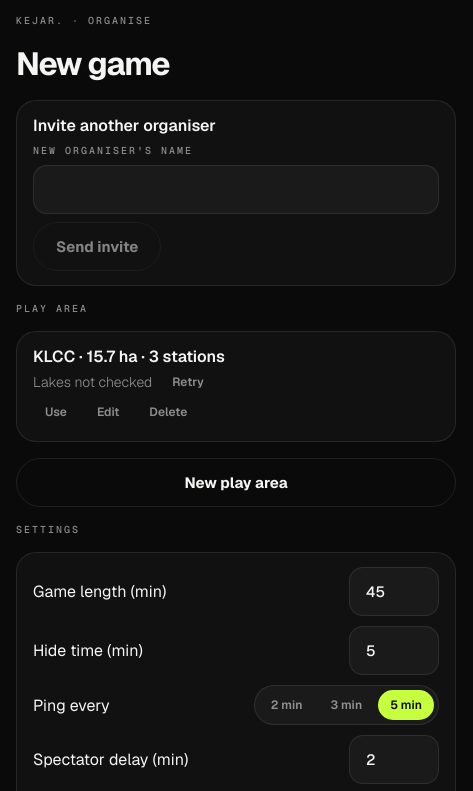
Test: HostNew › Retry rechecks the lakes and shows what needs moving
Check: the text "Lakes not checked" is shown, box [33,372,152,392]
Click the button "Retry" at (188, 382), box [160,367,216,397]
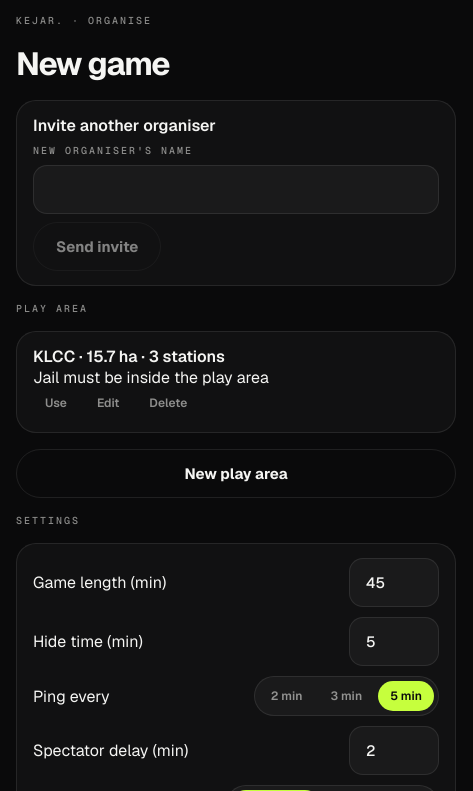
Check: the text "Jail must be inside the play area" is shown, box [33,367,269,388]
Check: the text "Lakes not checked" is gone
